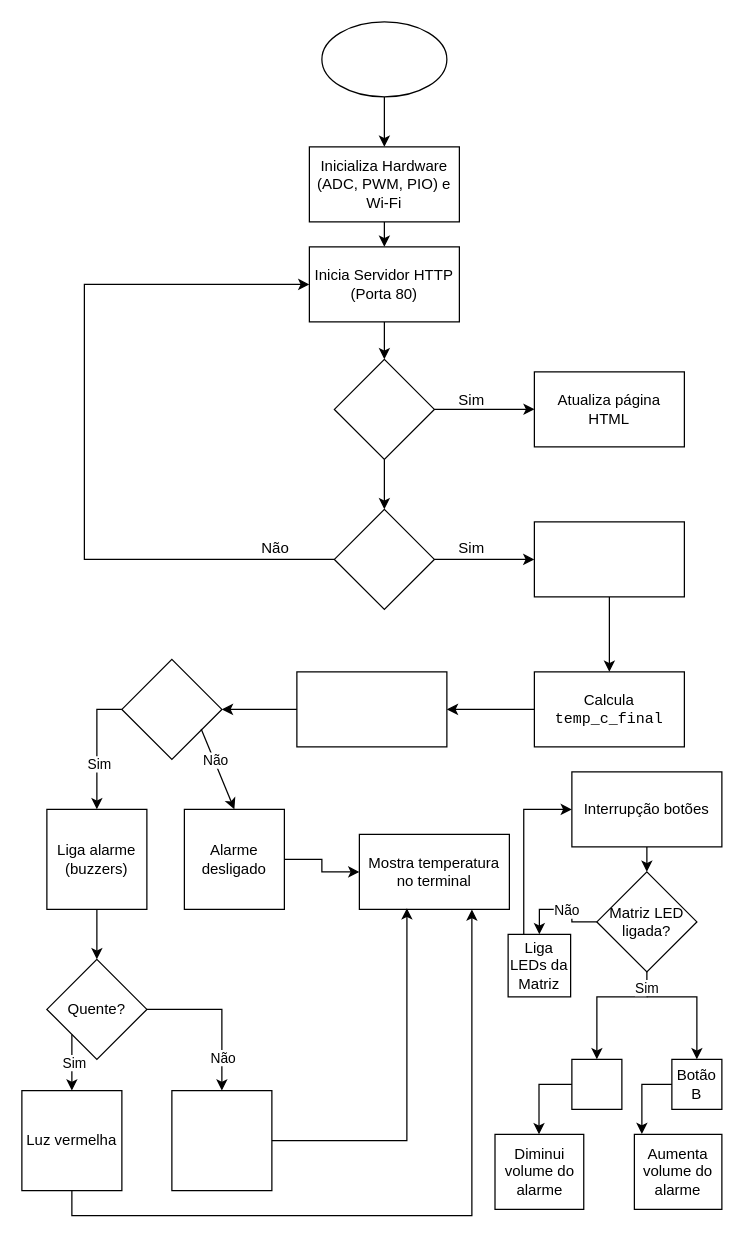
Image size: 744x1248. Some labels were removed from this diagram. Here are the shapes that lost their labels. From the top down, the centre of each, then its label:
At [384,59]: "Início".
At [383,408]: "Nova Requisição Web?".
At [383,558]: "Passou 1 segundo?".
At [608,559]: "Lê ADC (Sensor + Joystick)".
At [171,708]: "Passou limites?".
At [371,709]: "Verifica Limites".
At [596,1083]: "Botão A".
At [221,1140]: "Luz azul".
